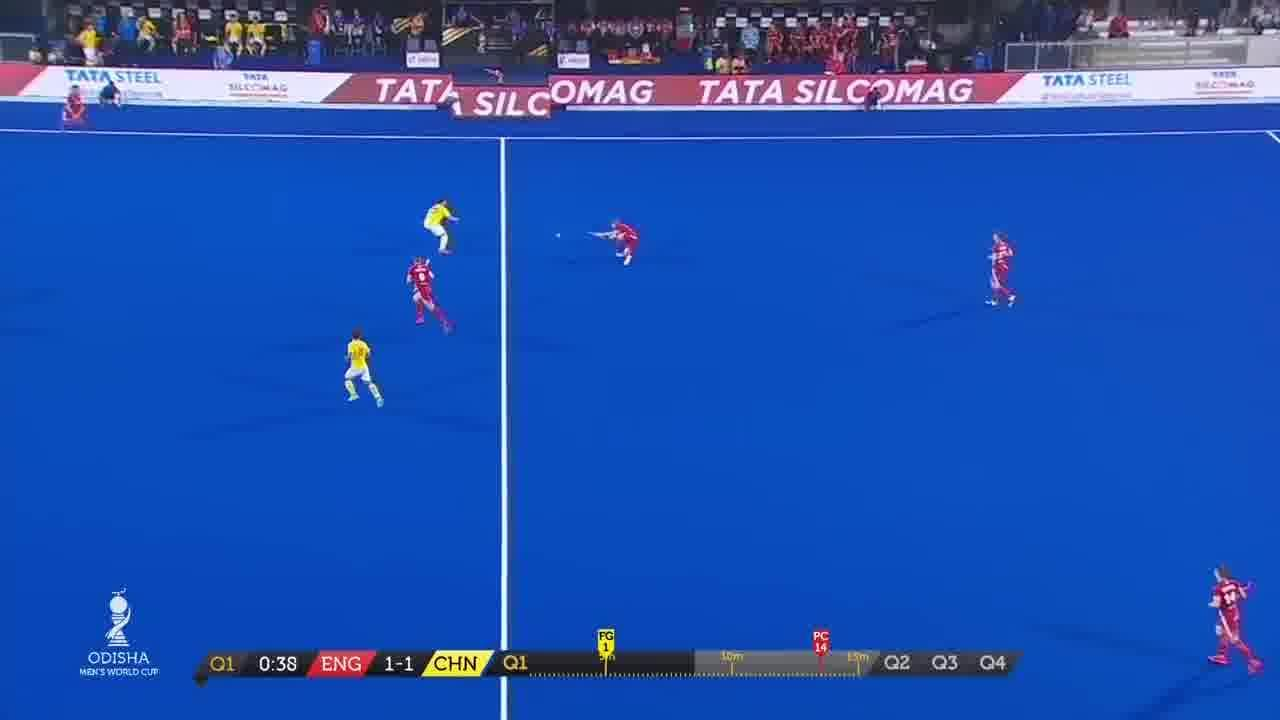ball: (550, 227, 565, 243)
